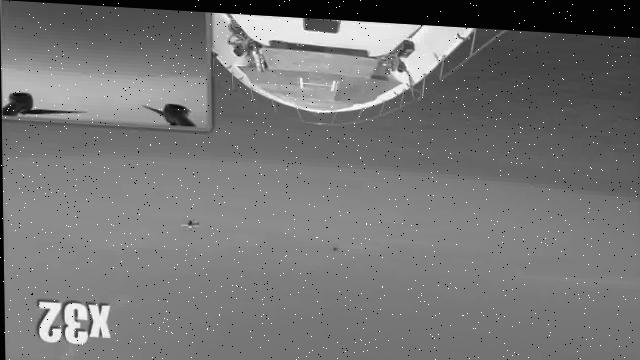drone: (177, 212, 202, 233), (326, 238, 350, 255)
